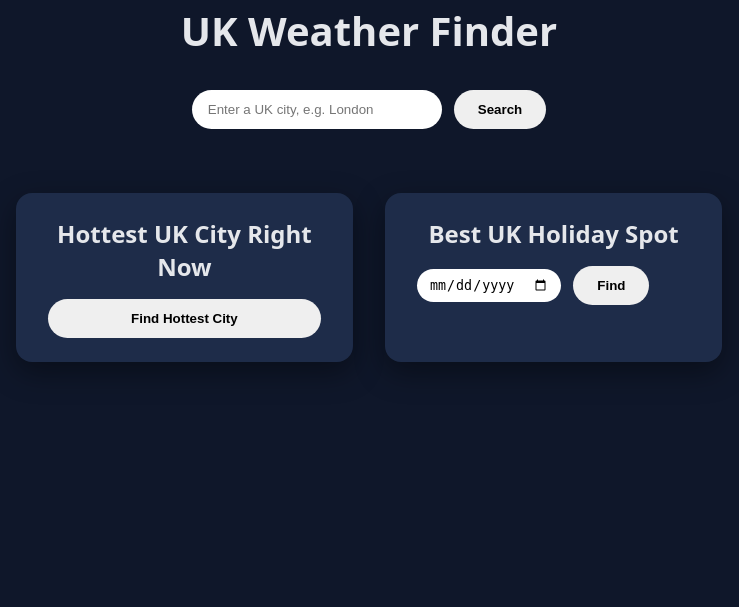
it: UK Weather Finder › Hottest City › edge case: region matches city › renders without duplicating the location label
The width and height of the screenshot is (739, 607).
Click the button with test id "hottest-submit": (185, 319) [48,299,321,338]
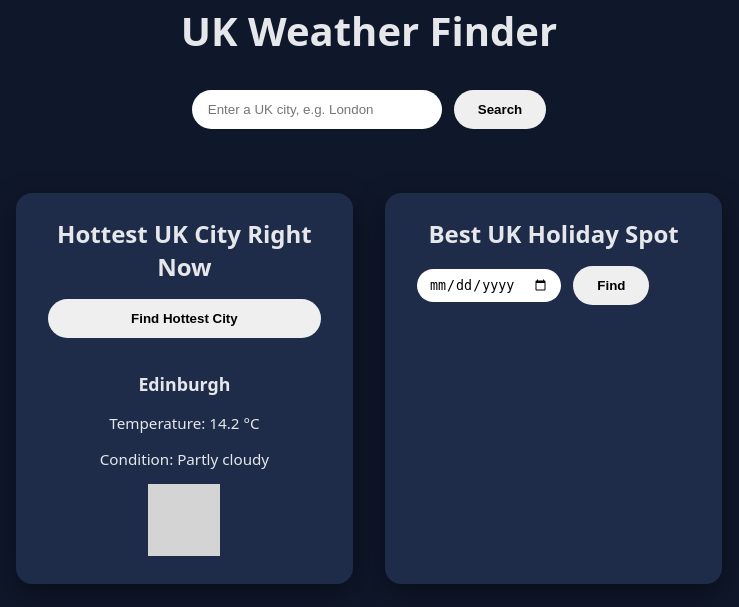
Expected: the heading "Edinburgh" is shown, [138,372,230,396]
